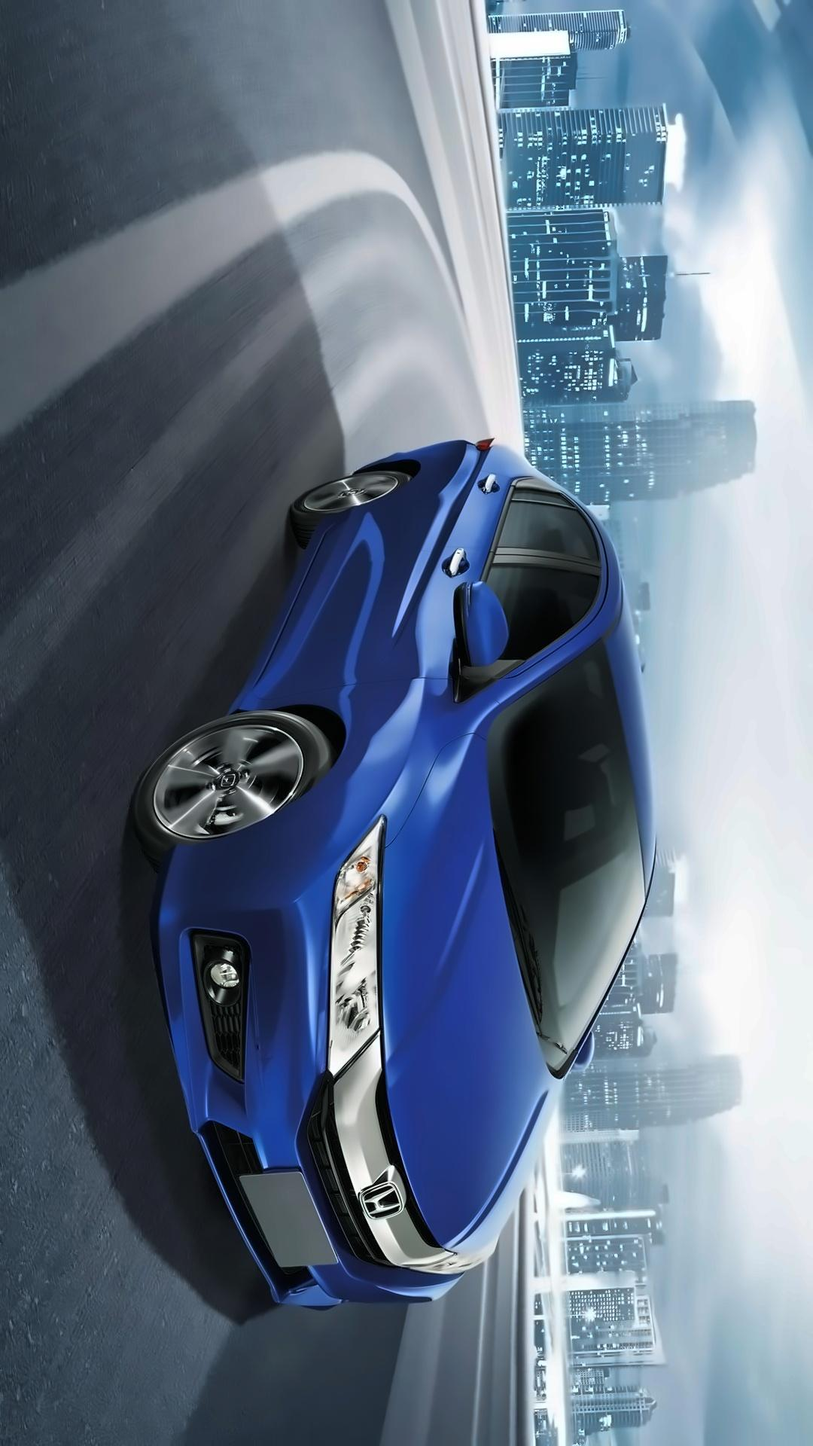Car hood: (359, 721, 553, 1260)
Driver-s door - -F-R-: (209, 535, 638, 700)
Fender - -F-R-: (214, 676, 460, 887)
Front bumper: (146, 839, 417, 1329)
Headlight - -R-: (310, 816, 397, 1088)
Passenger-s door - -R-R-: (306, 460, 634, 593)
Side mirror - -R-: (193, 517, 388, 711), (439, 570, 513, 696)
